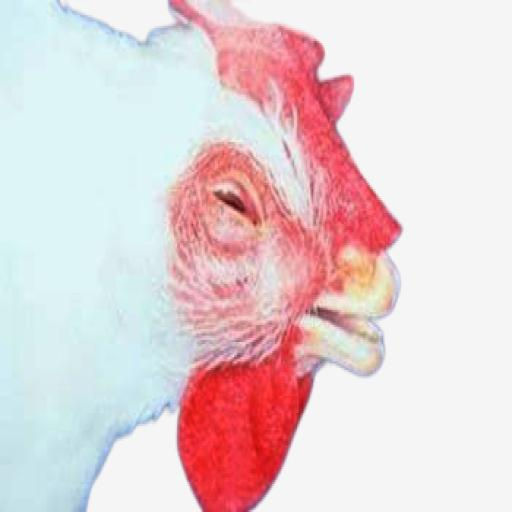disease: (168, 4, 322, 112), (189, 142, 286, 277)
